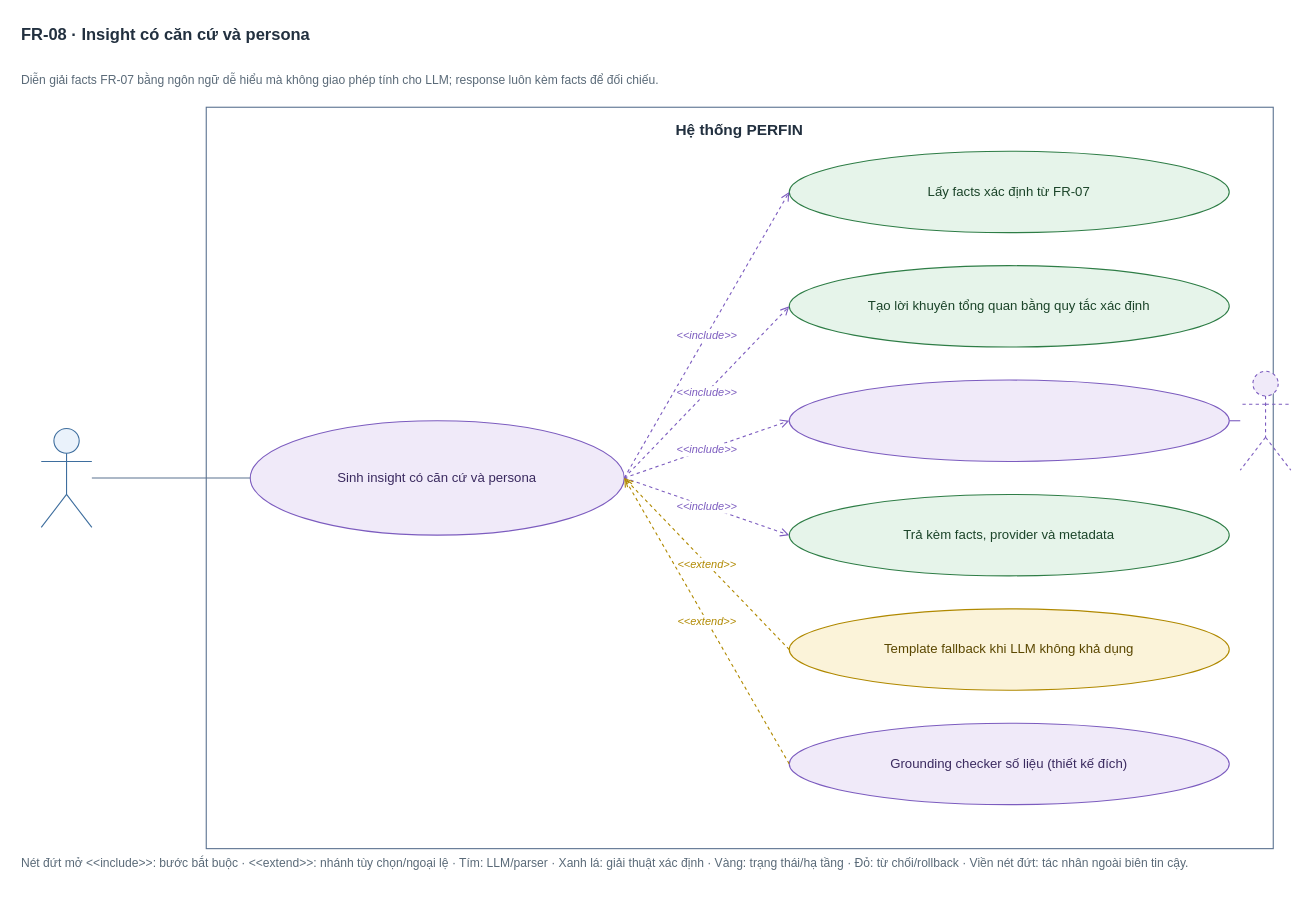
This 1313x906 diagram has some shape labels left out. Here are the shapes that lost their labels. From the top down, the centre of each, then its label:
the point at 1008,420: Diễn giải theo persona (chỉ đổi cách nói)
the point at 1265,420: Dịch vụ AI ngoài (LLM narrator)
the point at 66,477: Người dùng
